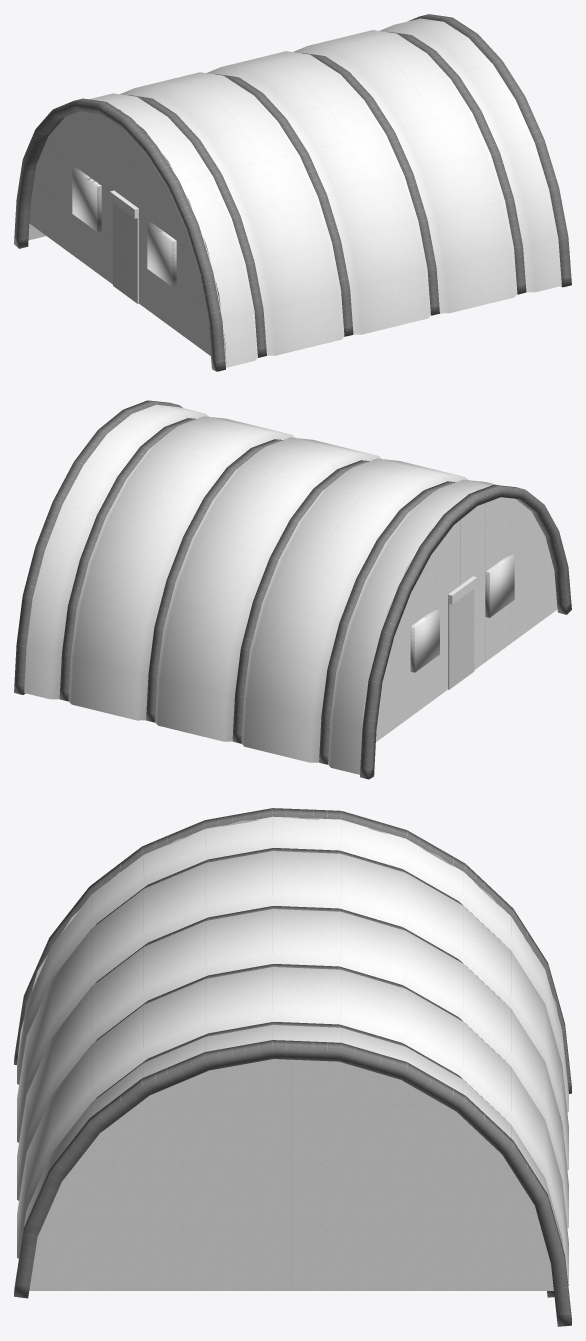
File: ArmyTent.fbx
The picture shows the model from 3 angles, top to bottom: view 1: azimuth 30°, elevation 25°; view 2: azimuth 150°, elevation 25°; view 3: azimuth 270°, elevation 25°; orthographic projection. The views are drawn at different scales.
Parts seen in each view (by area): view 1: ArmyTent_LOD0; view 2: ArmyTent_LOD0; view 3: ArmyTent_LOD0.
Boxes of the visible parts, box(x1,y1,x2,y2) form: ArmyTent_LOD0: box(14, 14, 571, 371); ArmyTent_LOD0: box(14, 400, 571, 779); ArmyTent_LOD0: box(14, 808, 571, 1326).
Size of what is drawn, in the model's own units: 821 by 452 by 813.
